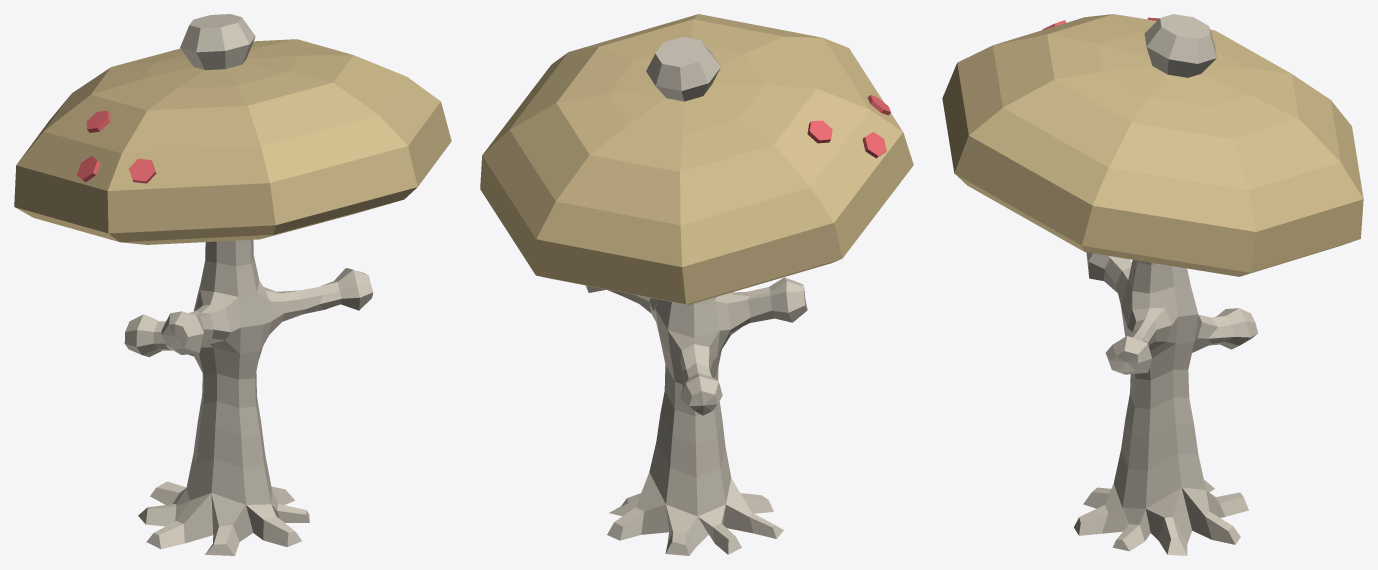
The model's file is Tree2c.fbx.
3 renders of one model, left to right at view 1: azimuth 30°, elevation 25°; view 2: azimuth 150°, elevation 25°; view 3: azimuth 270°, elevation 25°, orthographic. The views are drawn at different scales.
Visible parts, largest first — view 1: Circle; view 2: Circle; view 3: Circle.
Boxes of the visible parts, x1=… form: Circle: x1=14, y1=14, x2=451, y2=555; Circle: x1=480, y1=14, x2=913, y2=555; Circle: x1=942, y1=14, x2=1363, y2=555.
Bounding box in the file's own units: 301 × 387 × 297.
